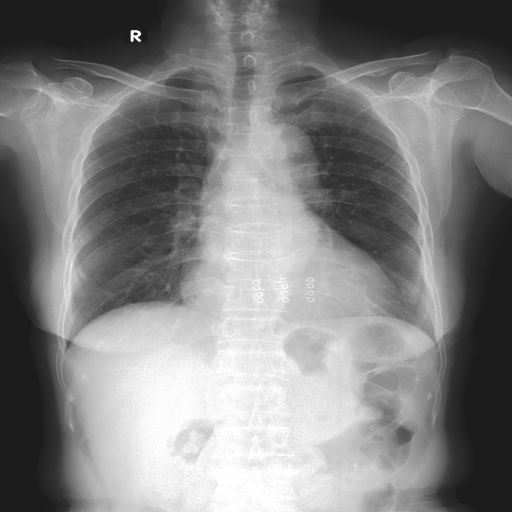Consolidation: (251, 122, 318, 181)
Nodule/Mass: (174, 276, 394, 317)
